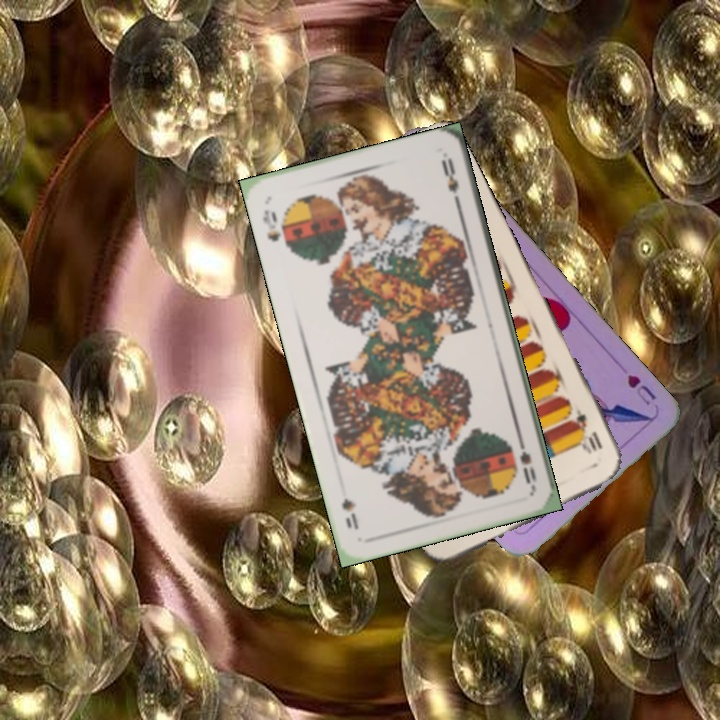E10: (568, 405, 606, 457)
HU: (623, 370, 659, 408)
SO: (258, 205, 293, 254), (514, 431, 539, 490)
